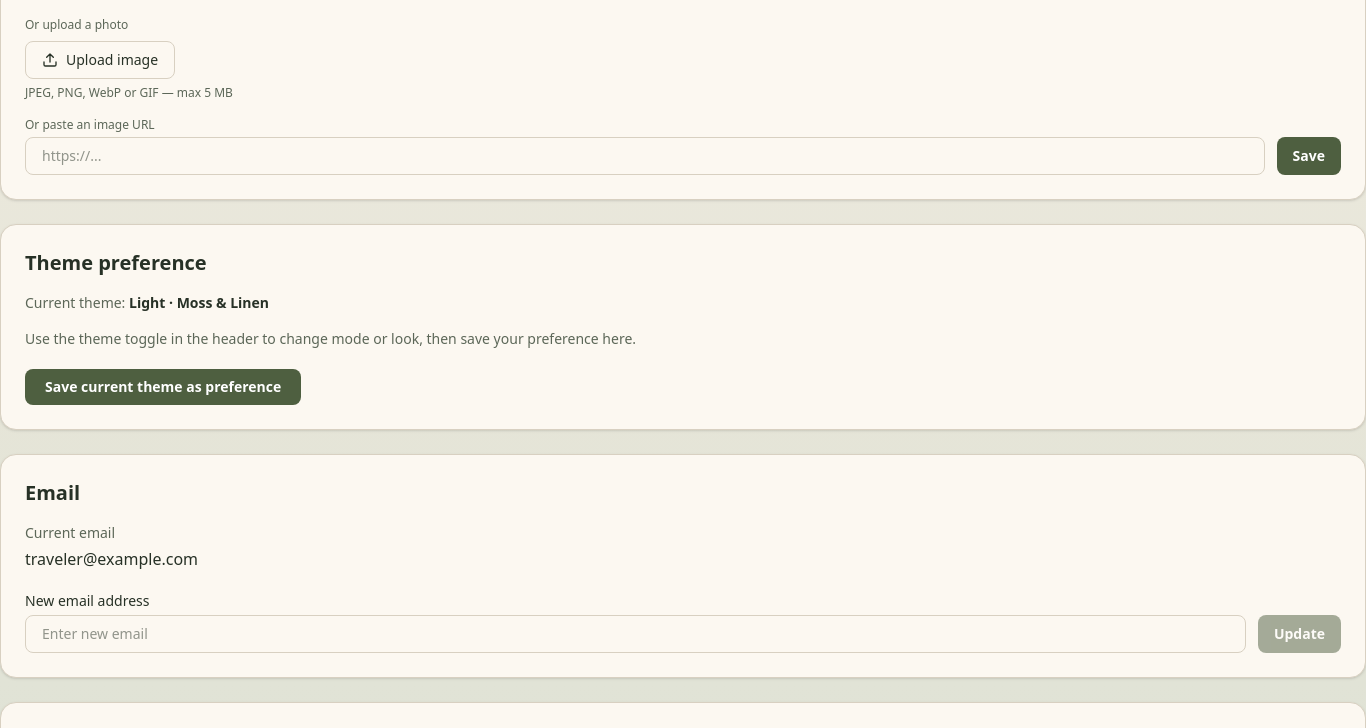
Test: AccountSettings › shows a stable save error when theme preference PATCH returns non-ok
(page scrolled)
Click the button "Save current theme as preference". click: coordinates (163, 387)
box: [25,369,301,405]
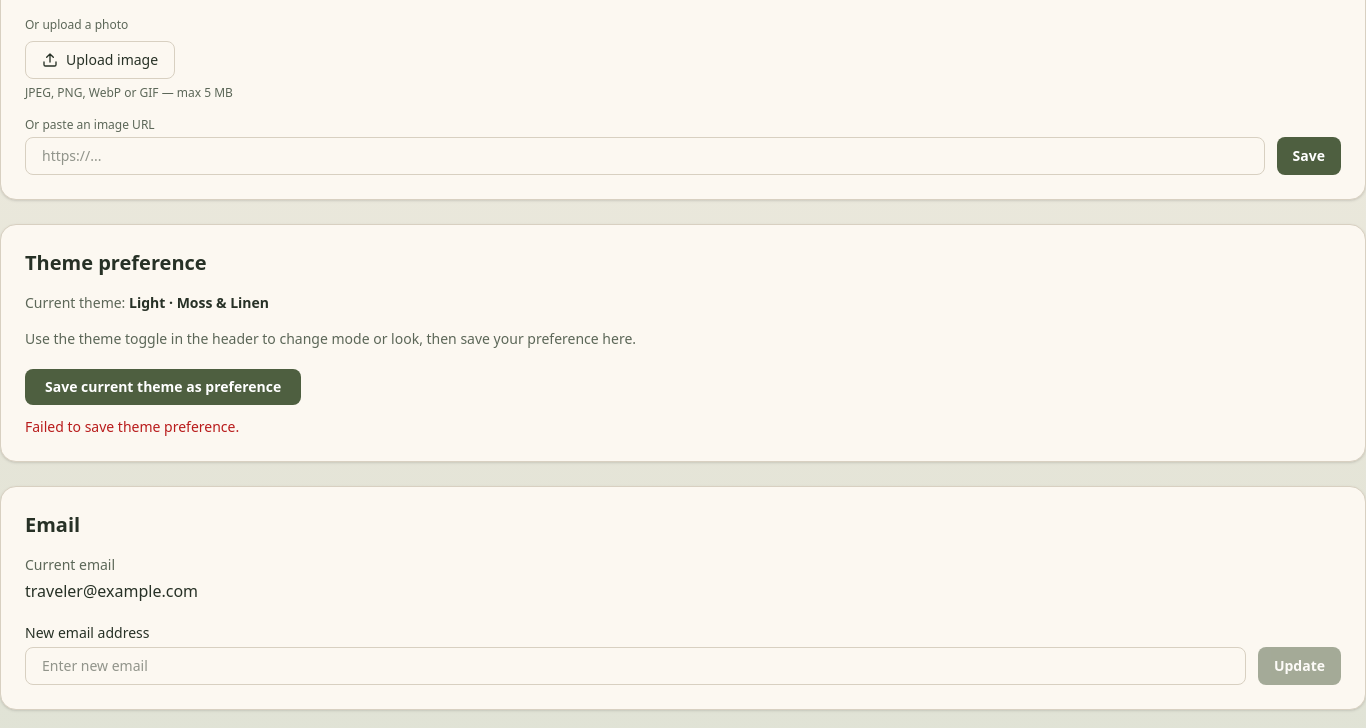
Now the text "Failed to save theme preference." is shown, box [25,417,239,436]
